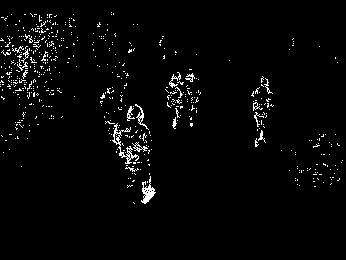person: (113, 103, 166, 202), (245, 75, 279, 148), (185, 69, 209, 130), (164, 73, 185, 129)
